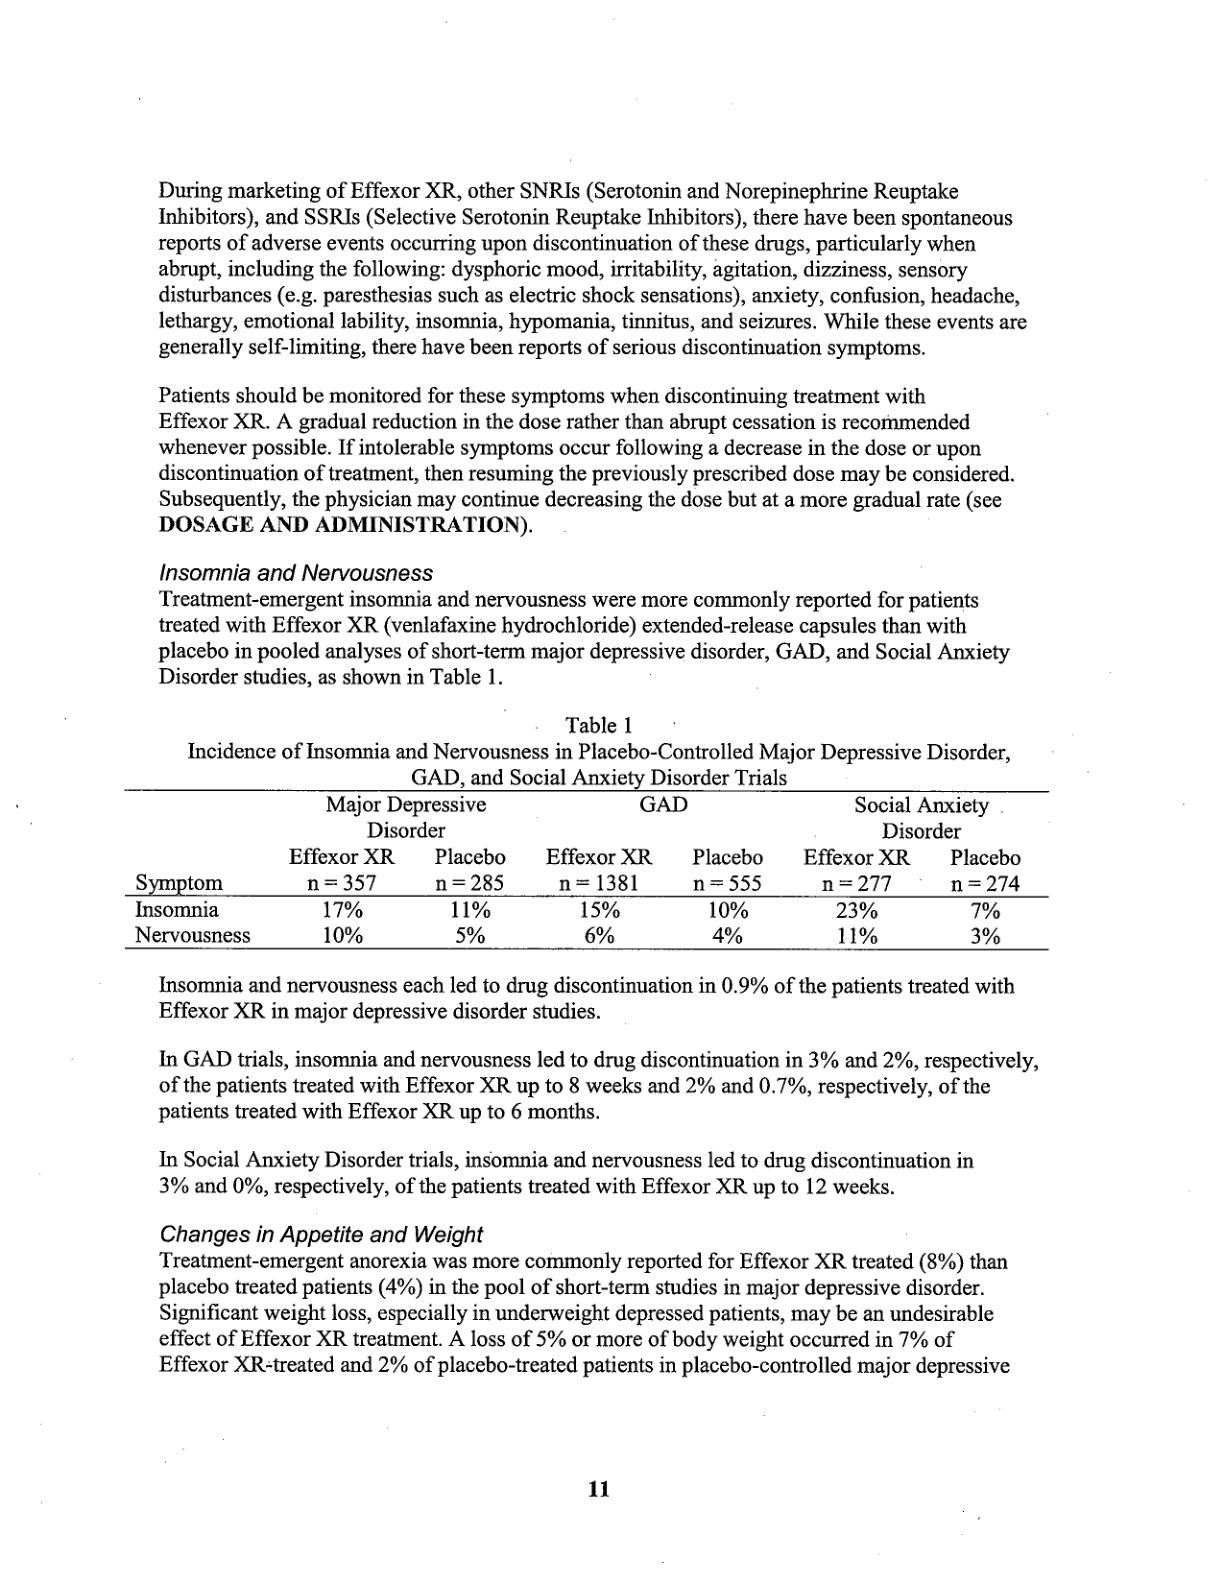partial_lined_merged_cells: (123, 788, 1056, 953)
